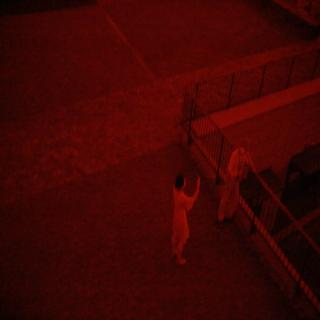person: (158, 167, 205, 266), (219, 134, 264, 236)
